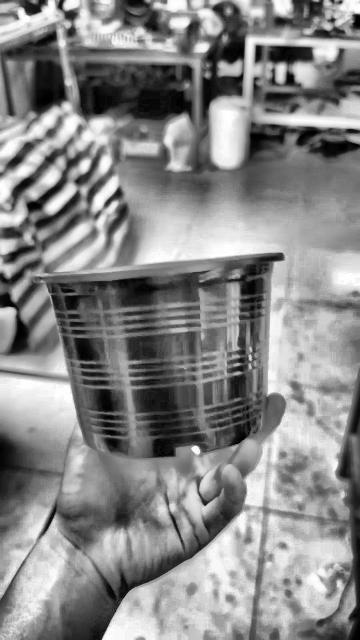pot: (35, 253, 283, 458)
